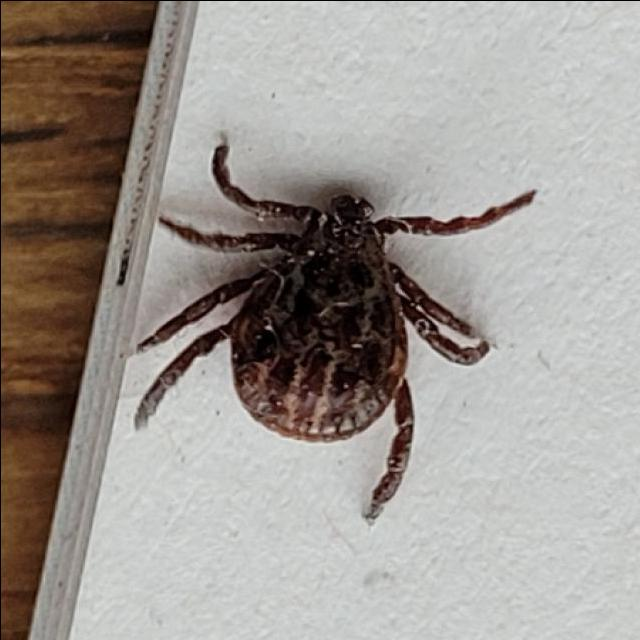Dermacentor Reticulatus-F: (134, 144, 536, 524)
